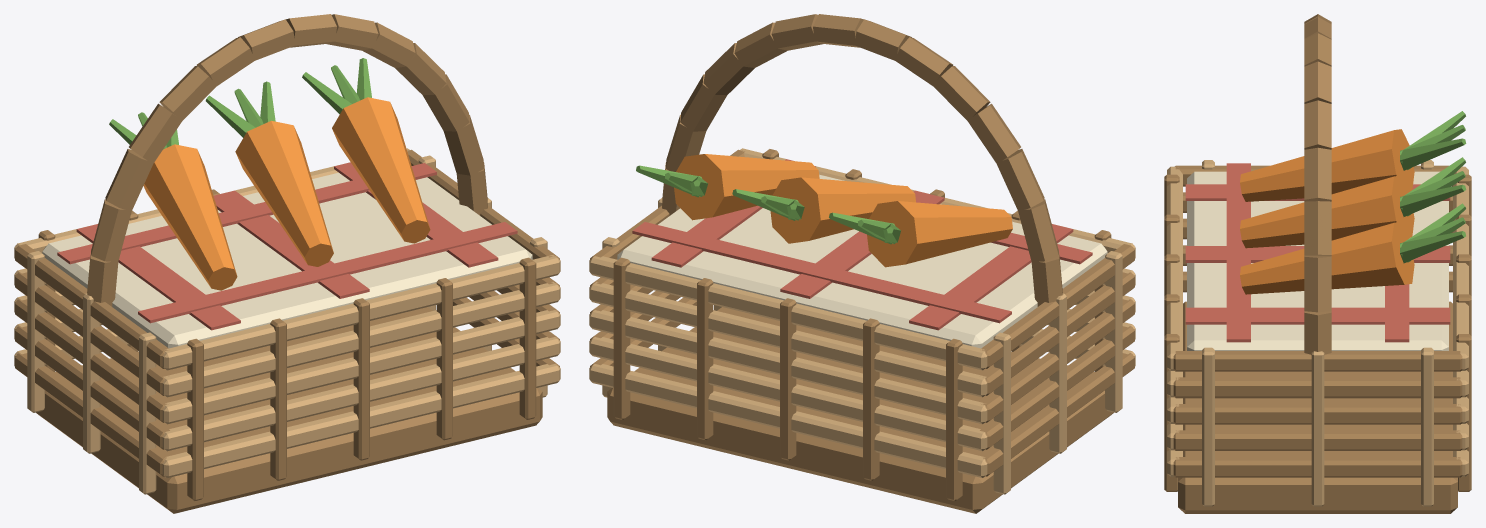
File: chapter_delivery_basket.glb
3 renders of one model, left to right at view 1: azimuth 30°, elevation 25°; view 2: azimuth 150°, elevation 25°; view 3: azimuth 270°, elevation 25°, orthographic.
Parts seen in each view (by area): view 1: Cream checked tea towel, Basket solid bottom, Woven willow long band.008, Woven willow long band.006, Woven willow long band, Woven willow long band.004, Woven willow long band.002, Fresh carrot.001, Fresh carrot.002, Fresh carrot, Red cross stripe, Red towel stripe (+34 smaller); view 2: Basket solid bottom, Cream checked tea towel, Woven willow long band.009, Woven willow long band.007, Woven willow long band.001, Woven willow long band.005, Woven willow long band.003, Fresh carrot, Red cross stripe.001, Fresh carrot.001, Fresh carrot.002, Red towel stripe (+31 smaller); view 3: Basket solid bottom, Cream checked tea towel, Fresh carrot.002, Fresh carrot, Fresh carrot.001, Woven willow end band.007, Woven willow end band.001, Woven willow end band.003, Woven willow end band.005, Woven willow end band.009, Red cross stripe, Red towel stripe.002 (+28 smaller).
Part boxes in pixels (<box>): Cream checked tea towel: <box>42,172,532,348</box>; Basket solid bottom: <box>36,307,542,513</box>; Woven willow long band.008: <box>162,255,560,370</box>; Woven willow long band.006: <box>162,282,560,397</box>; Woven willow long band: <box>162,364,560,477</box>; Woven willow long band.004: <box>162,310,560,424</box>; Woven willow long band.002: <box>162,337,560,451</box>; Fresh carrot.001: <box>235,120,333,266</box>; Fresh carrot.002: <box>332,97,430,243</box>; Fresh carrot: <box>143,144,237,290</box>; Red cross stripe: <box>138,222,517,323</box>; Red towel stripe: <box>76,224,240,330</box>; Basket solid bottom: <box>607,307,1113,513</box>; Cream checked tea towel: <box>617,174,1107,348</box>; Woven willow long band.009: <box>589,256,987,370</box>; Woven willow long band.007: <box>589,282,987,397</box>; Woven willow long band.001: <box>589,364,987,477</box>; Woven willow long band.005: <box>589,310,987,424</box>; Woven willow long band.003: <box>589,337,987,451</box>; Fresh carrot: <box>867,201,1012,267</box>; Red cross stripe.001: <box>632,222,1011,323</box>; Fresh carrot.001: <box>770,177,915,243</box>; Fresh carrot.002: <box>674,154,819,220</box>; Red towel stripe: <box>909,224,1073,330</box>; Basket solid bottom: <box>1178,301,1457,513</box>; Cream checked tea towel: <box>1187,171,1448,350</box>; Fresh carrot.002: <box>1240,221,1414,294</box>; Fresh carrot: <box>1240,129,1414,201</box>; Fresh carrot.001: <box>1240,175,1414,248</box>; Woven willow end band.007: <box>1173,377,1462,398</box>; Woven willow end band.001: <box>1173,457,1462,477</box>; Woven willow end band.003: <box>1173,430,1462,450</box>; Woven willow end band.005: <box>1173,404,1462,424</box>; Woven willow end band.009: <box>1173,351,1462,371</box>; Red cross stripe: <box>1226,163,1250,342</box>; Red towel stripe.002: <box>1185,307,1450,324</box>.
Bounding box in the file's own units: 0.755 × 0.7158 × 0.505.
